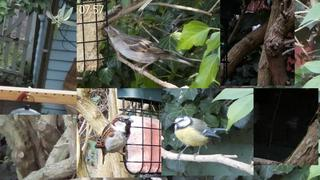blue tit: (171, 115, 227, 161)
sparrow: (103, 25, 194, 76), (94, 115, 135, 165)
